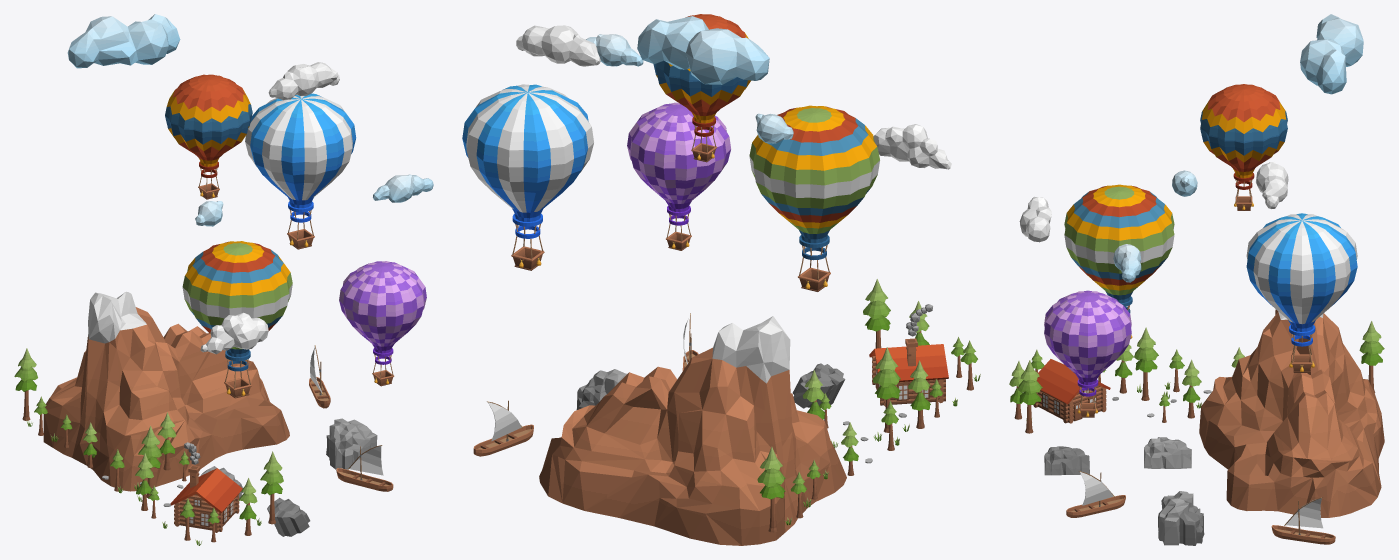
File: field_11.glb
3 renders of one model, left to right at view 1: azimuth 30°, elevation 25°; view 2: azimuth 150°, elevation 25°; view 3: azimuth 270°, elevation 25°, orthographic. The views are drawn at different scales.
Visible parts, largest first — view 1: mountain 7_19, air balloon_3, air balloon 2_34, air balloon 3_40, air balloon 4_4, cloud 4_31, wooden house 2_7, cloud 5_13, stone large_23, cloud 3_38, sailboat_0, cloud 2_37 (+9 smaller); view 2: mountain 7_19, air balloon_3, air balloon 2_34, air balloon 4_4, cloud 4_31, air balloon 3_40, wooden house 2_7, cloud 3_38, cloud 5_13, sailboat (1)_2, cloud 2_37, stone large 2 (1)_52 (+5 smaller); view 3: mountain 7_19, air balloon_3, air balloon 2_34, air balloon 3_40, air balloon 4_4, cloud 4_31, wooden house 2_7, sailboat (1)_2, stone large (1)_14, sailboat_0, stone large_23, stone large 2 (1)_52 (+9 smaller).
Boxes of the visible parts, x1,y1,x2,y2 form: mountain 7_19: (43, 291, 289, 491); air balloon_3: (245, 93, 356, 249); air balloon 2_34: (182, 241, 292, 398); air balloon 3_40: (165, 74, 252, 199); air balloon 4_4: (339, 261, 426, 386); cloud 4_31: (67, 14, 180, 68); wooden house 2_7: (170, 465, 242, 532); cloud 5_13: (200, 312, 268, 354); stone large_23: (329, 418, 377, 469); cloud 3_38: (268, 62, 339, 100); sailboat_0: (336, 445, 393, 491); cloud 2_37: (373, 174, 433, 202); mountain 7_19: (539, 316, 846, 545); air balloon_3: (462, 84, 593, 270); air balloon 2_34: (749, 105, 879, 291); air balloon 4_4: (627, 102, 730, 250); cloud 4_31: (637, 16, 769, 84); air balloon 3_40: (653, 14, 750, 162); wooden house 2_7: (869, 338, 948, 406); cloud 3_38: (516, 25, 600, 66); cloud 5_13: (873, 124, 951, 169); sailboat (1)_2: (473, 400, 533, 456); cloud 2_37: (586, 34, 643, 66); stone large 2 (1)_52: (792, 363, 845, 408); mountain 7_19: (1199, 309, 1384, 517); air balloon_3: (1246, 213, 1357, 372); air balloon 2_34: (1064, 184, 1174, 338); air balloon 3_40: (1200, 84, 1287, 210); air balloon 4_4: (1044, 290, 1131, 417); cloud 4_31: (1300, 14, 1363, 94); wooden house 2_7: (1033, 359, 1110, 423); sailboat (1)_2: (1271, 497, 1335, 544); stone large (1)_14: (1144, 437, 1191, 468); sailboat_0: (1066, 471, 1125, 517); stone large_23: (1158, 491, 1193, 545); stone large 2 (1)_52: (1044, 446, 1089, 475).
Size of the model in its own units: 20.72 by 28.17 by 22.
Materials: 1 (1 with a texture image).
